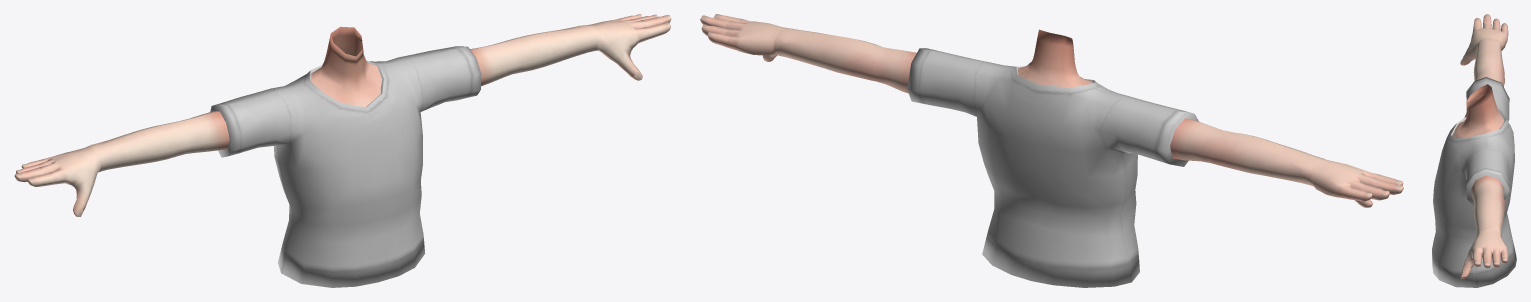
The model's file is tr0720_00_upb01.gltf.
3 renders of one model, left to right at view 1: azimuth 30°, elevation 25°; view 2: azimuth 150°, elevation 25°; view 3: azimuth 270°, elevation 25°, orthographic. The views are drawn at different scales.
Parts seen in each view (by area): view 1: upb01_upperbody_mesh_shape:upperbody01, upb01_upperskin_mesh_shape:upperbody01_skin; view 2: upb01_upperbody_mesh_shape:upperbody01, upb01_upperskin_mesh_shape:upperbody01_skin; view 3: upb01_upperbody_mesh_shape:upperbody01, upb01_upperskin_mesh_shape:upperbody01_skin.
Part boxes in pixels (box(x1,y1,x2,y2)): upb01_upperbody_mesh_shape:upperbody01: box(210, 46, 481, 287); upb01_upperskin_mesh_shape:upperbody01_skin: box(14, 14, 671, 216); upb01_upperbody_mesh_shape:upperbody01: box(907, 48, 1199, 287); upb01_upperskin_mesh_shape:upperbody01_skin: box(700, 14, 1403, 207); upb01_upperbody_mesh_shape:upperbody01: box(1432, 77, 1516, 287); upb01_upperskin_mesh_shape:upperbody01_skin: box(1452, 14, 1508, 278).
Size of what is drawn, in the model's own units: 1.63 by 0.5428 by 0.2345.
Materials: 2 (2 with a texture image).
